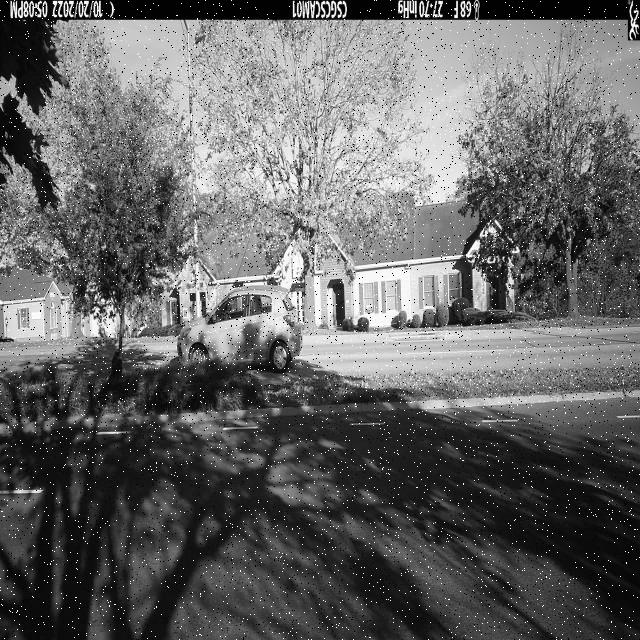Hatchback: (177, 286, 302, 373)
